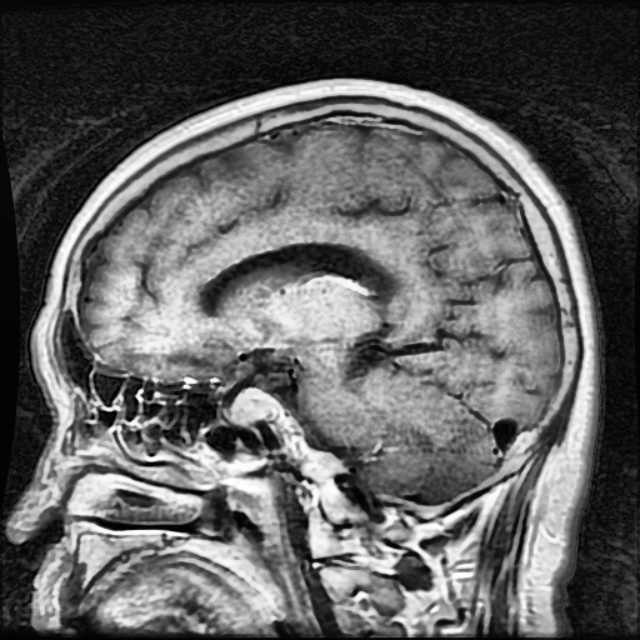Pituitary: (229, 385, 278, 427)
